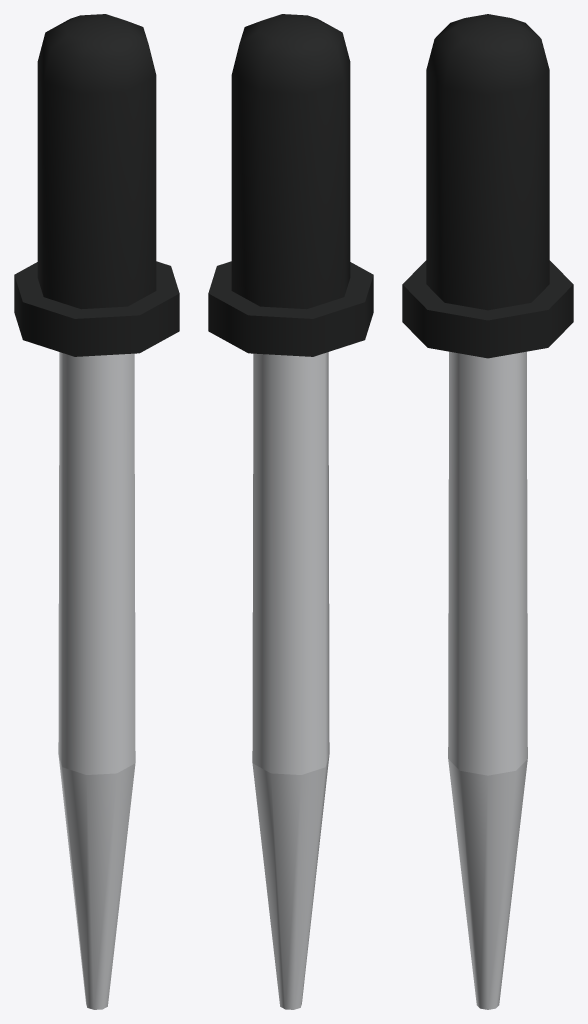
File: bottle_dropper.glb
The picture shows the model from 3 angles, left to right: view 1: azimuth 30°, elevation 25°; view 2: azimuth 150°, elevation 25°; view 3: azimuth 270°, elevation 25°; orthographic projection.
Parts seen in each view (by area): view 1: bottle_dropper; view 2: bottle_dropper; view 3: bottle_dropper.
Part boxes in pixels (bbox=[...]): bottle_dropper: bbox=[14, 14, 179, 1009]; bottle_dropper: bbox=[208, 14, 373, 1009]; bottle_dropper: bbox=[402, 14, 573, 1009].
Bounding box in the file's own units: 2.25 × 14.21 × 2.25.
2 materials, 2 textured.
